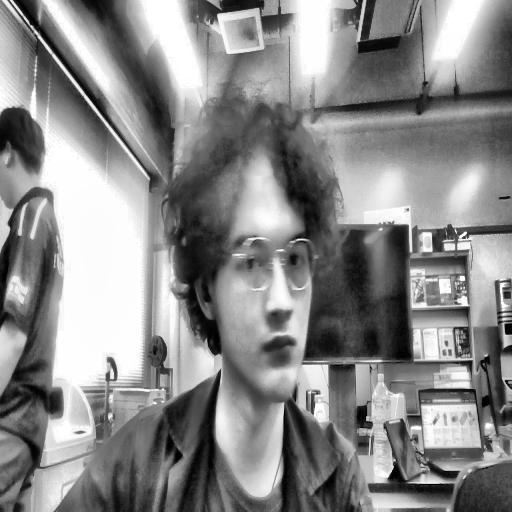Daifuku: (163, 98, 331, 394)
Not Daifuku: (1, 102, 43, 194)
